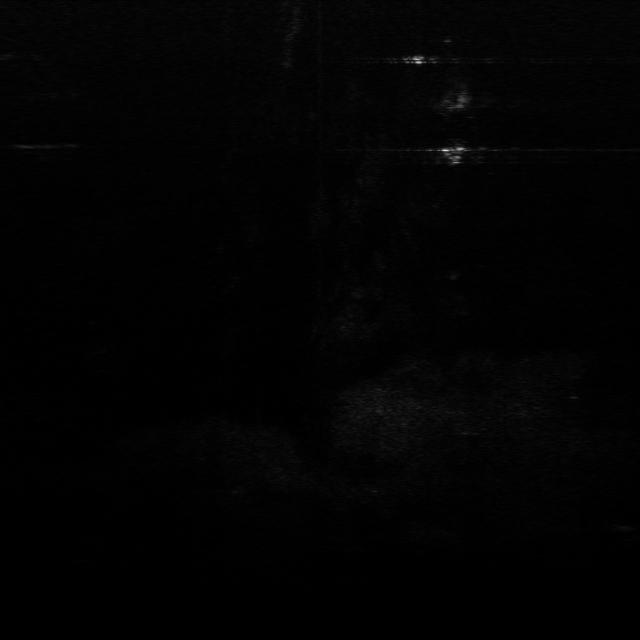rov: (433, 142, 471, 168)
